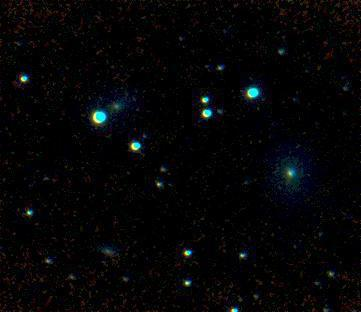star: (244, 95, 274, 125)
